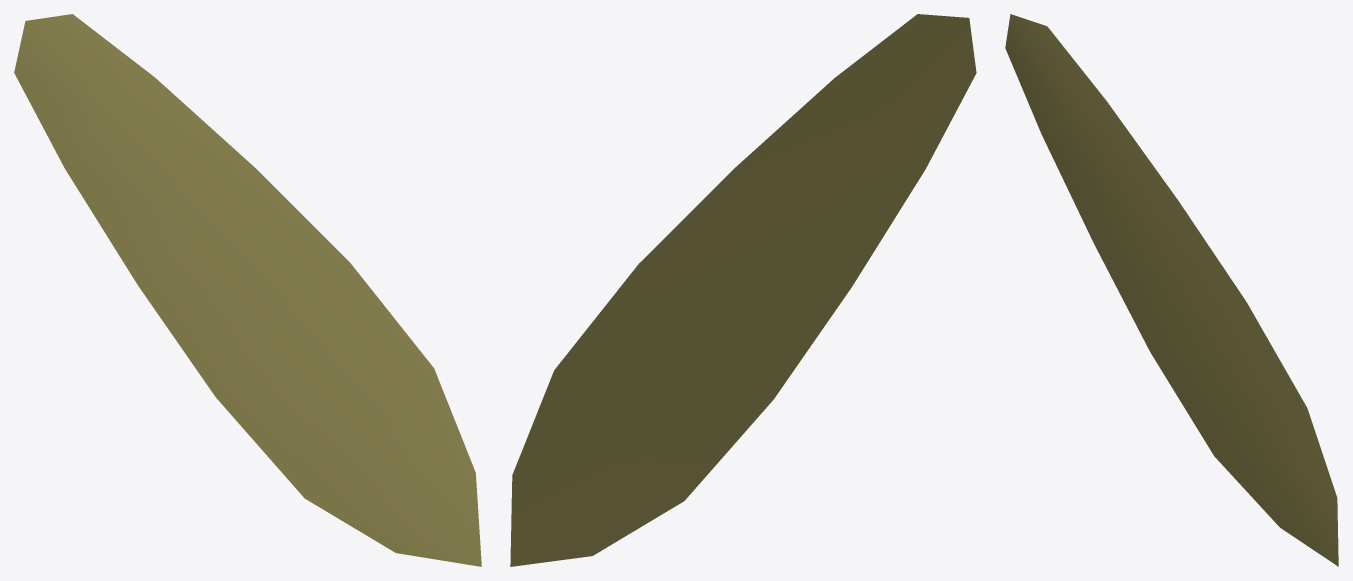
Rendered from lovebird_feather_flight_primary_012.obj.
3 views of the same model, side by side, from view 1: azimuth 30°, elevation 25°; view 2: azimuth 150°, elevation 25°; view 3: azimuth 330°, elevation 25° (orthographic). The views are drawn at different scales.
Visible parts, largest first — view 1: feather_flight_primary_012; view 2: feather_flight_primary_012; view 3: feather_flight_primary_012.
Boxes of the visible parts, <box> form: feather_flight_primary_012: <box>14,14,481,566</box>; feather_flight_primary_012: <box>510,14,976,566</box>; feather_flight_primary_012: <box>1005,14,1338,566</box>.
Size of the model in its own units: 0.0207 by 0.028 by 0.00016.
